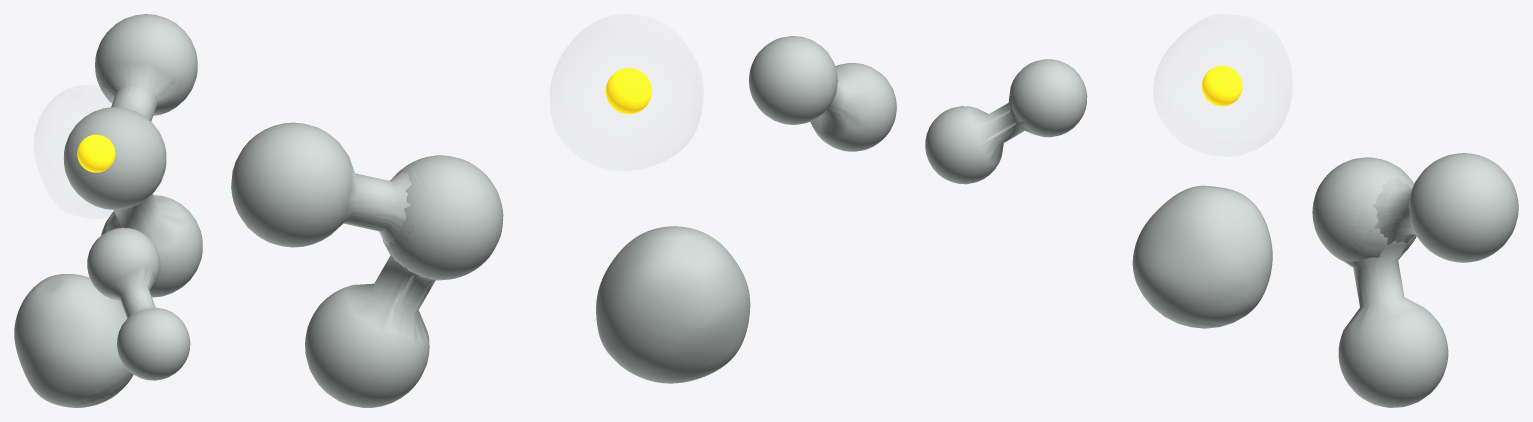
The model's file is molecules.fbx.
3 views of the same model, side by side, from view 1: azimuth 30°, elevation 25°; view 2: azimuth 150°, elevation 25°; view 3: azimuth 270°, elevation 25° (orthographic). The views are drawn at different scales.
Visible parts, largest first — view 1: Sphere.004, Sphere.003, Sphere.007, Sphere.006; view 2: Sphere.004, Sphere.003, Sphere.007, Sphere.006; view 3: Sphere.004, Sphere.003, Sphere.007, Sphere.006.
Part boxes in pixels (<box>): Sphere.004: <box>63,14,202,297</box>; Sphere.003: <box>14,274,133,407</box>; Sphere.007: <box>87,227,190,380</box>; Sphere.006: <box>77,134,115,172</box>; Sphere.004: <box>231,122,503,407</box>; Sphere.003: <box>596,226,750,383</box>; Sphere.007: <box>748,36,896,151</box>; Sphere.006: <box>605,68,651,114</box>; Sphere.004: <box>1312,153,1518,407</box>; Sphere.003: <box>1132,185,1272,328</box>; Sphere.007: <box>925,59,1087,184</box>; Sphere.006: <box>1202,65,1242,106</box>.
Size of the model in its own units: 440 by 412 by 699.
